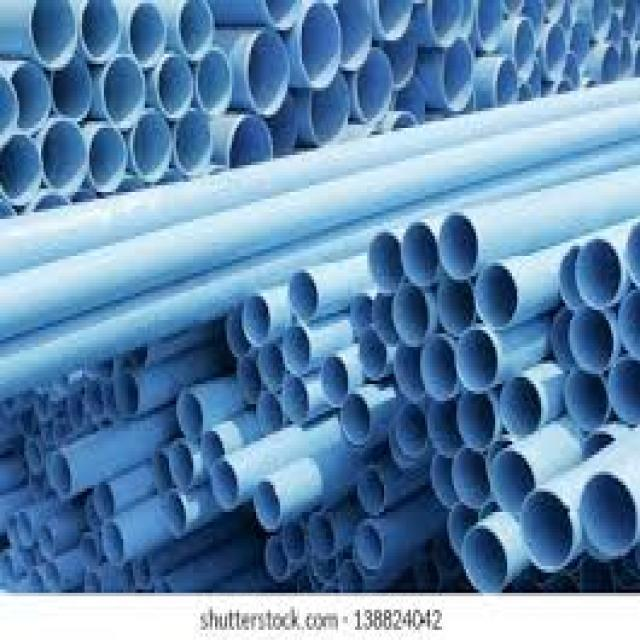pipe: (579, 473, 638, 558), (520, 489, 575, 571), (247, 29, 290, 114), (575, 239, 624, 310), (301, 2, 340, 91), (41, 120, 87, 192), (29, 1, 77, 69), (461, 527, 508, 593), (102, 54, 145, 126), (499, 372, 543, 440), (129, 114, 171, 183), (571, 312, 617, 373), (311, 75, 348, 150), (226, 112, 273, 171), (491, 450, 535, 513), (174, 110, 214, 179), (355, 49, 393, 121), (10, 64, 49, 132), (401, 222, 441, 287), (51, 54, 91, 119), (454, 446, 492, 514), (457, 328, 498, 390), (477, 264, 517, 327), (422, 330, 459, 398), (565, 373, 609, 428), (440, 216, 479, 278), (89, 126, 125, 193), (457, 392, 497, 452), (336, 0, 371, 68), (127, 5, 166, 65), (368, 233, 405, 294), (197, 46, 231, 112), (82, 0, 120, 59), (443, 35, 472, 112), (158, 54, 192, 117), (438, 277, 474, 336), (178, 2, 214, 60), (395, 285, 429, 344), (394, 401, 428, 458), (611, 357, 639, 426), (428, 403, 463, 457), (288, 269, 321, 324), (559, 244, 586, 309), (394, 343, 424, 400), (387, 31, 418, 86), (551, 306, 576, 373), (356, 330, 389, 379), (357, 465, 388, 516), (447, 503, 475, 559), (283, 322, 313, 374), (258, 339, 288, 390), (321, 355, 349, 408), (310, 513, 339, 564), (477, 0, 504, 54), (242, 295, 270, 346), (356, 518, 384, 568), (114, 375, 145, 420), (341, 394, 370, 442), (229, 298, 253, 356), (255, 479, 282, 530), (212, 458, 239, 509), (515, 19, 536, 83), (178, 389, 205, 438), (237, 355, 265, 402), (545, 23, 568, 80), (49, 452, 76, 499), (101, 519, 126, 569), (621, 289, 639, 358), (431, 1, 462, 40), (378, 5, 413, 39), (259, 392, 287, 434), (171, 440, 195, 489), (497, 57, 520, 108), (348, 289, 375, 331), (266, 537, 290, 584), (432, 457, 454, 508), (284, 377, 308, 423), (283, 520, 307, 563), (601, 46, 628, 83), (625, 221, 640, 285), (263, 4, 301, 29), (165, 493, 187, 534), (94, 479, 116, 520), (157, 450, 176, 496), (202, 431, 224, 469), (78, 533, 101, 569), (37, 522, 57, 556), (18, 514, 33, 548), (543, 0, 564, 22)
